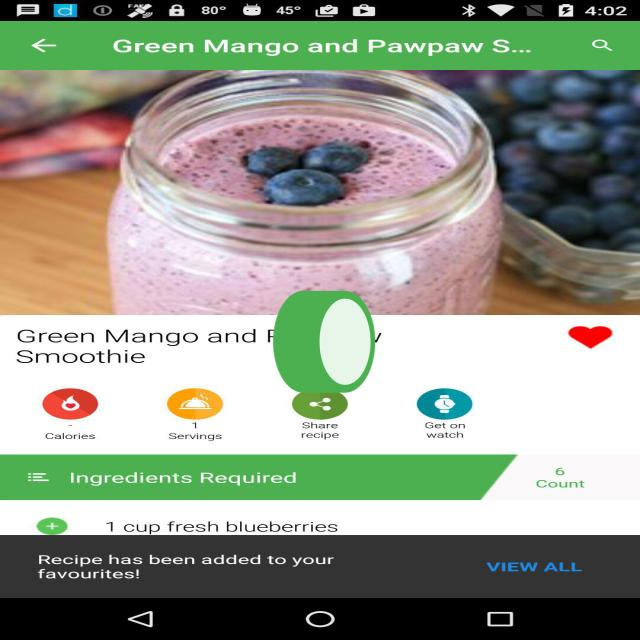social proof: (268, 252, 380, 439)
